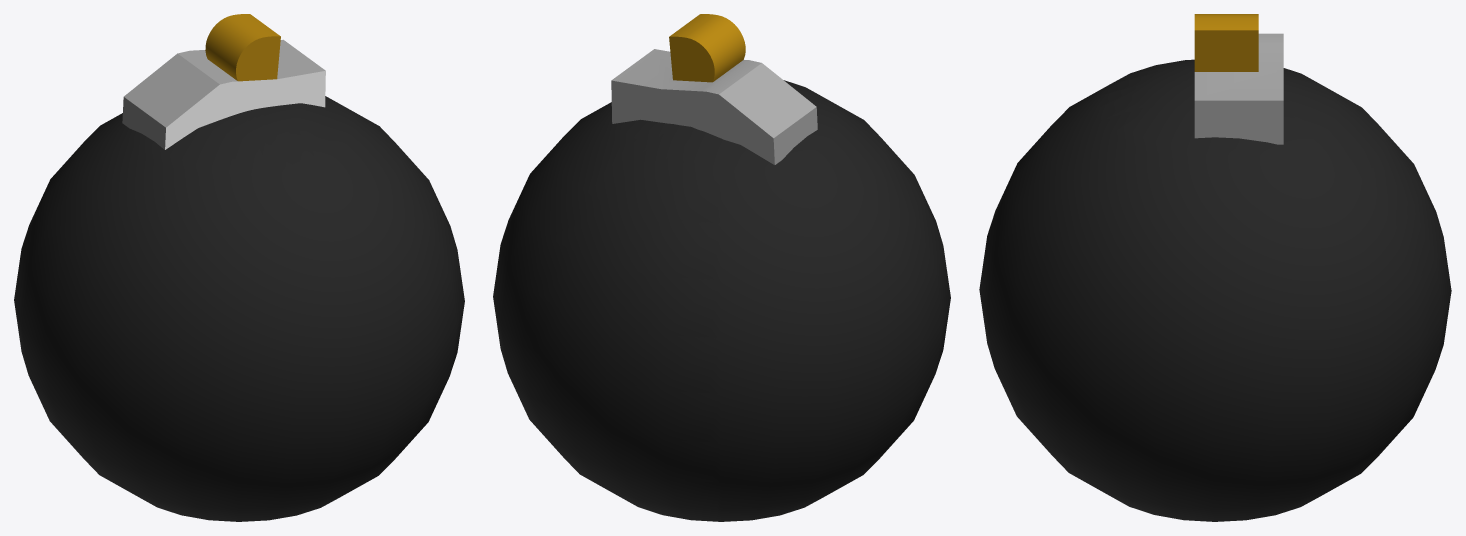
Rendered from practicebomb.dae.
3 views of the same model, side by side, from view 1: azimuth 30°, elevation 25°; view 2: azimuth 150°, elevation 25°; view 3: azimuth 270°, elevation 25° (orthographic). The views are drawn at different scales.
Parts seen in each view (by area): view 1: SketchUp (×4); view 2: SketchUp (×3); view 3: SketchUp (×3).
Part boxes in pixels (box(x1,y1,x2,y2)): SketchUp (×4): box(14, 14, 464, 521); SketchUp (×3): box(493, 14, 950, 521); SketchUp (×3): box(979, 14, 1451, 521).
Size of the model in its own units: 28944 by 28944 by 33011.
